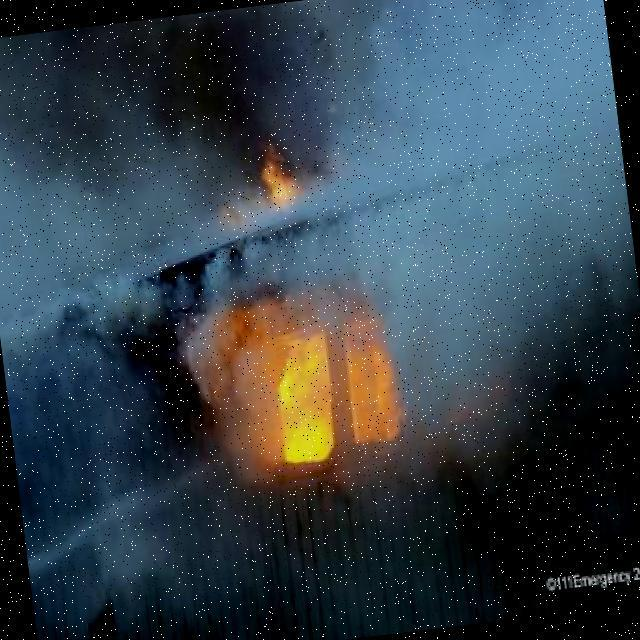Fire: (257, 297, 415, 485), (257, 130, 308, 224)
Smoke: (338, 0, 640, 503), (0, 213, 274, 429)
